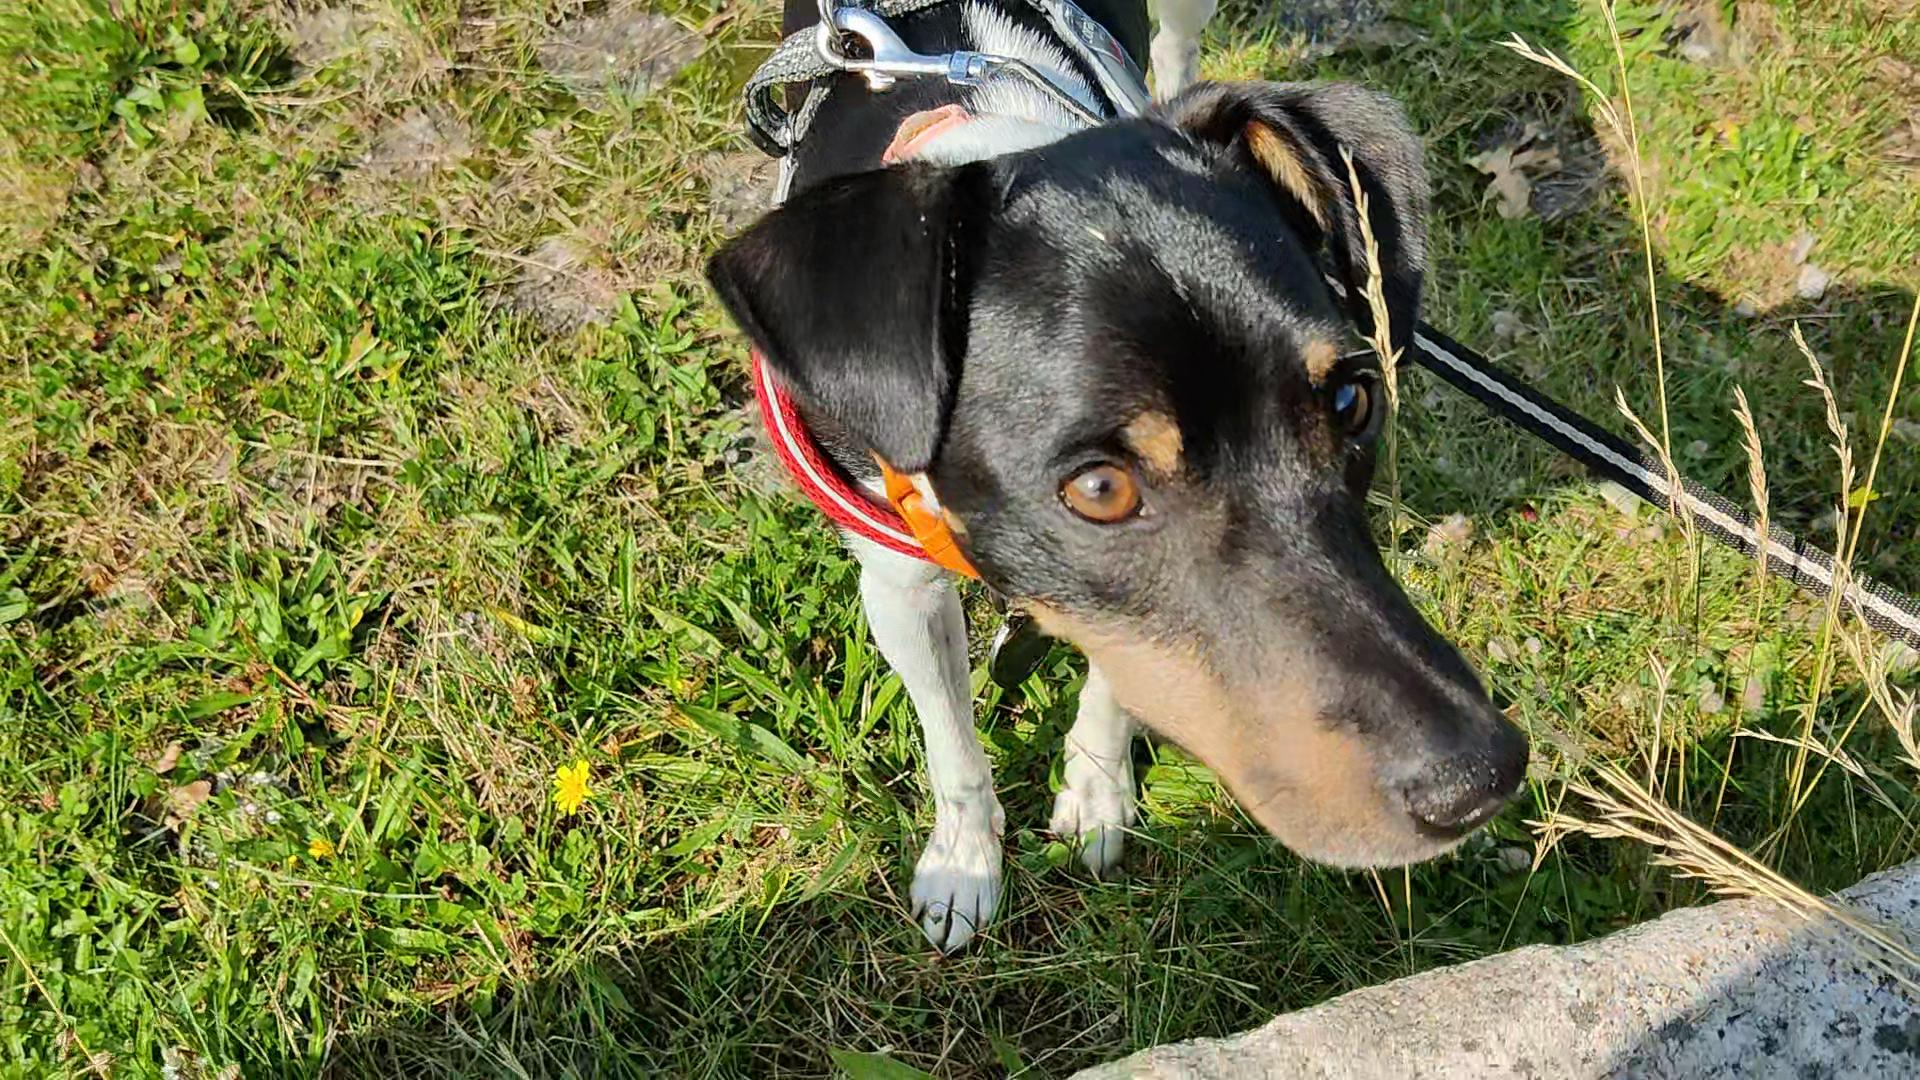Dog: (682, 0, 1552, 959)
